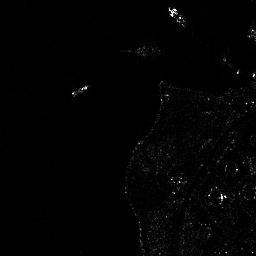ship: (166, 5, 188, 28), (68, 85, 91, 97)
